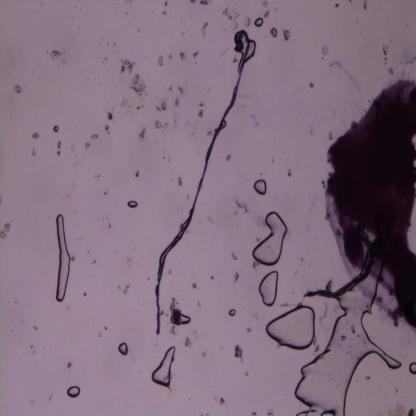Air bubble: (292, 258, 403, 415), (266, 304, 315, 351), (252, 211, 288, 267), (54, 214, 70, 304), (150, 344, 179, 390), (258, 270, 278, 307), (254, 178, 269, 198), (247, 38, 256, 63), (66, 385, 82, 399), (177, 312, 191, 326), (118, 342, 128, 356), (254, 17, 264, 29), (126, 199, 139, 208), (408, 360, 416, 374), (228, 306, 237, 318), (270, 27, 278, 38), (54, 125, 61, 132)
Background material: (130, 72, 147, 99), (223, 5, 239, 30), (169, 296, 178, 336), (236, 195, 250, 217), (119, 57, 134, 76), (234, 344, 246, 365), (0, 222, 13, 241), (382, 42, 390, 66), (154, 101, 169, 113), (117, 283, 131, 295), (232, 270, 242, 286), (199, 21, 208, 38), (324, 278, 333, 294), (49, 48, 62, 59), (320, 44, 330, 58), (282, 28, 292, 42), (55, 139, 63, 156), (137, 127, 146, 142), (198, 102, 206, 118), (13, 84, 24, 95), (105, 109, 114, 122), (153, 119, 163, 130), (30, 146, 38, 159), (102, 125, 112, 135), (30, 130, 40, 140), (157, 55, 165, 67), (176, 176, 184, 188), (192, 49, 200, 61), (184, 338, 194, 347), (65, 360, 74, 370), (201, 349, 208, 361), (244, 16, 251, 28), (176, 85, 185, 94), (225, 152, 233, 162), (90, 132, 100, 140), (198, 0, 209, 7), (178, 51, 186, 60), (218, 396, 226, 405), (132, 170, 141, 178), (160, 9, 168, 18), (191, 281, 198, 291), (174, 97, 180, 108), (362, 0, 368, 11), (266, 407, 274, 415), (407, 408, 415, 416), (102, 187, 109, 196), (308, 80, 314, 90), (287, 166, 292, 178), (102, 322, 108, 331), (232, 250, 237, 260), (334, 2, 341, 8), (81, 290, 86, 298), (86, 140, 90, 149), (163, 0, 168, 7)
Cellulose filter fibre: (301, 225, 375, 298)
Cotton: (156, 30, 250, 337)
Pen: (318, 77, 416, 336)
